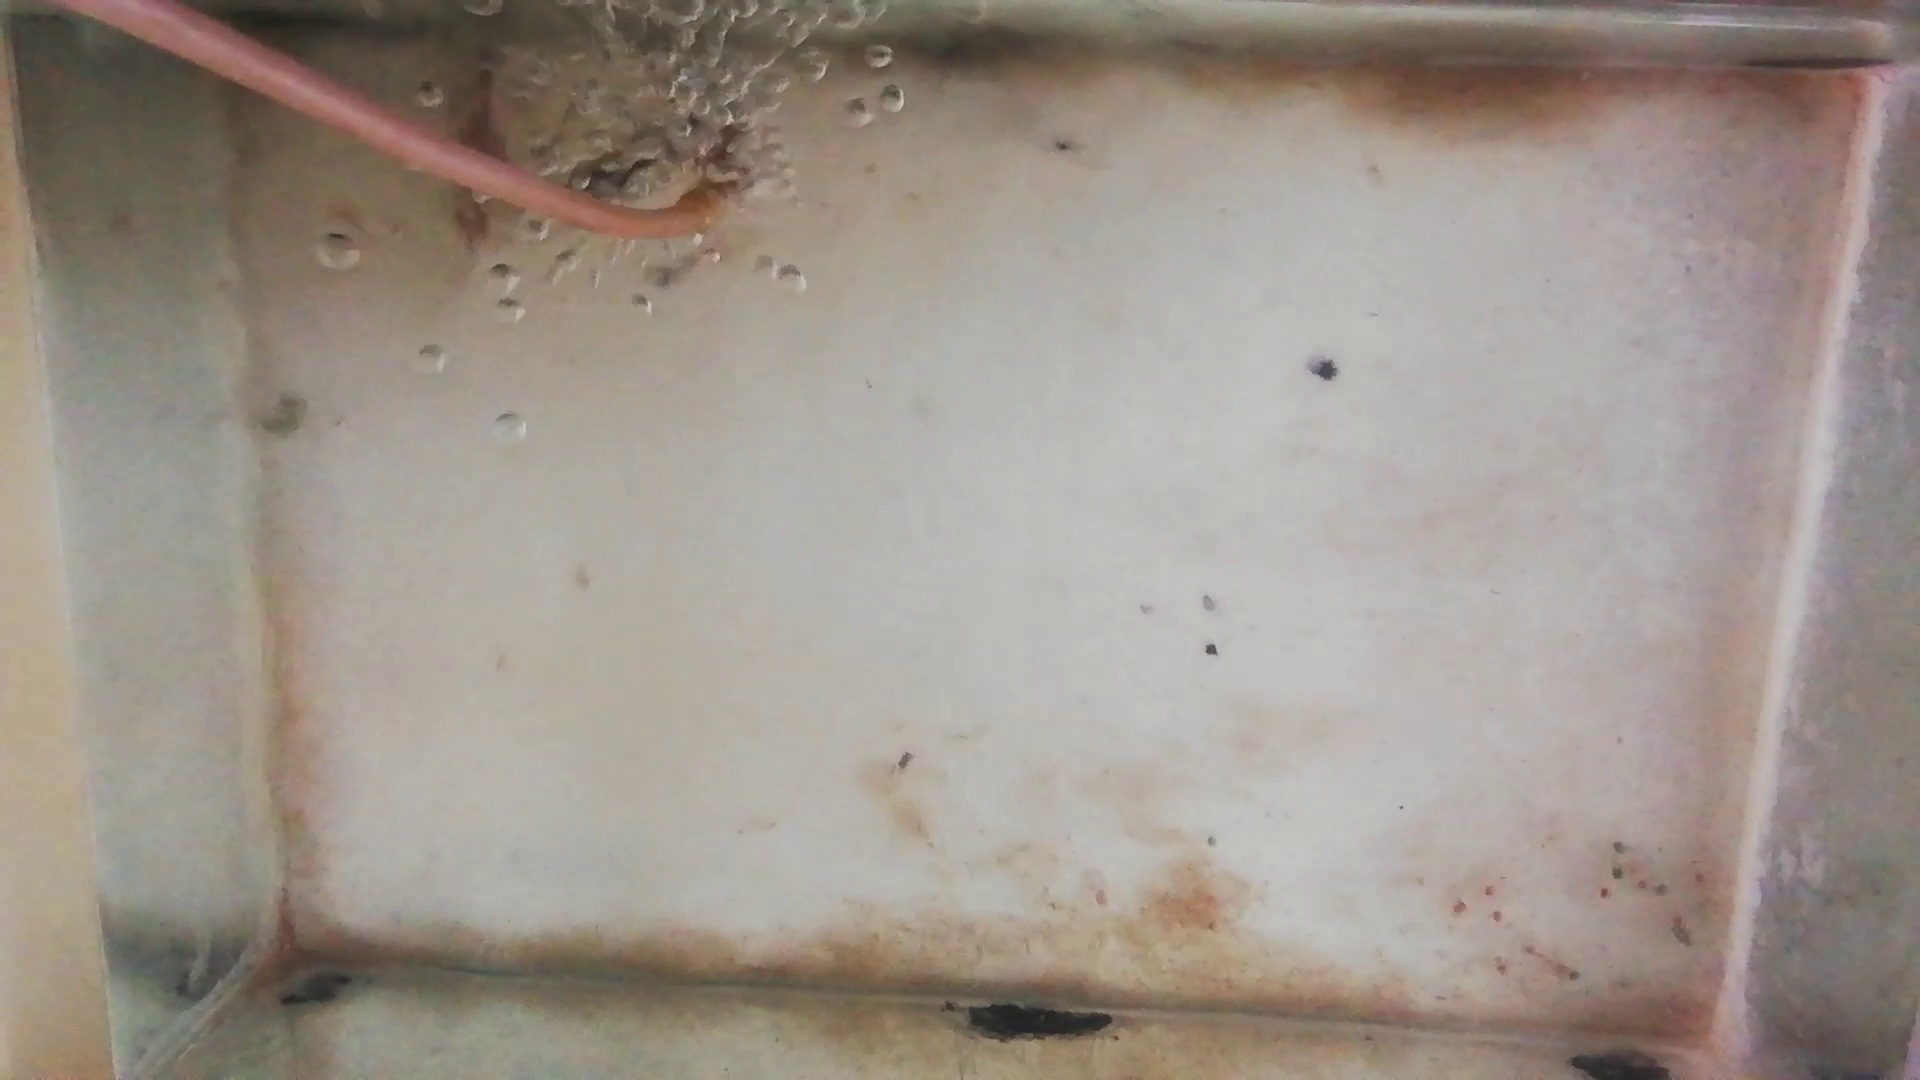fish: (444, 26, 498, 243), (566, 140, 669, 189)
